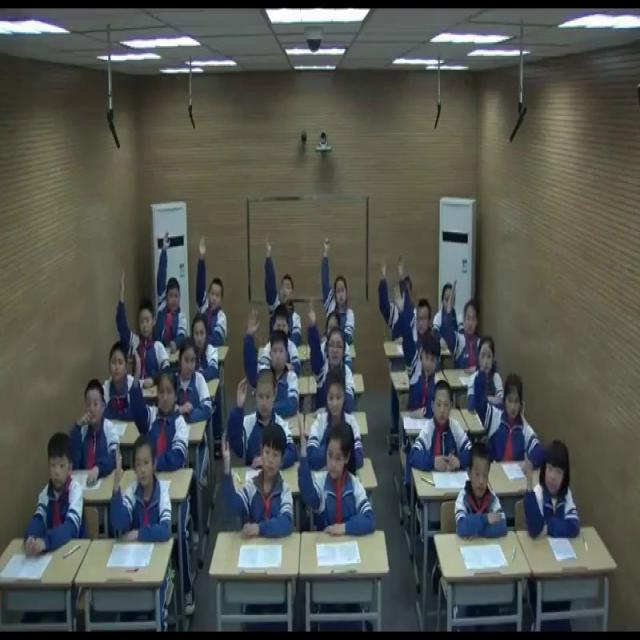focused: (29, 433, 86, 551), (412, 384, 476, 474), (72, 377, 122, 489), (309, 370, 364, 470), (454, 441, 504, 542), (170, 339, 216, 423), (466, 327, 506, 408), (105, 338, 140, 415), (187, 313, 219, 386), (434, 274, 465, 346)
raising_hand: (291, 408, 376, 534), (472, 342, 542, 464), (217, 425, 290, 531), (131, 348, 190, 472), (110, 439, 174, 551), (394, 281, 443, 421), (113, 262, 172, 377), (228, 365, 295, 466), (242, 306, 304, 412), (306, 302, 356, 412), (525, 446, 582, 540), (320, 232, 359, 346), (194, 230, 230, 347), (156, 232, 190, 353), (263, 236, 304, 334), (375, 260, 420, 346), (396, 252, 434, 350), (444, 278, 486, 366)
